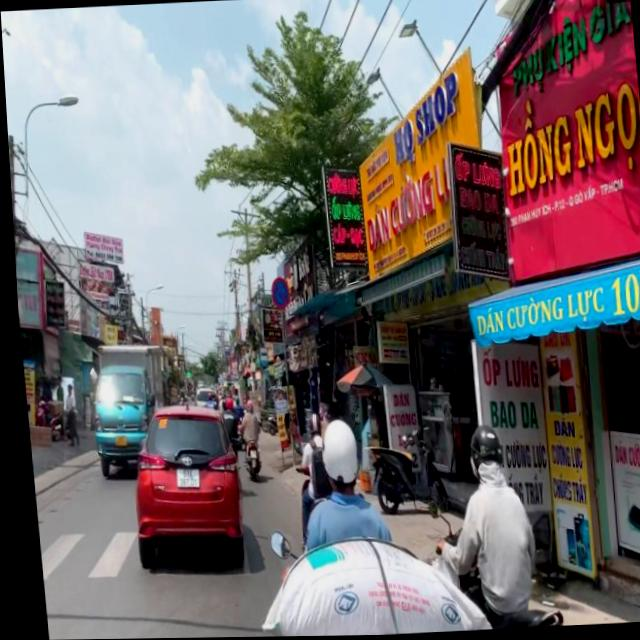Cam do xe: (265, 277, 287, 312)
